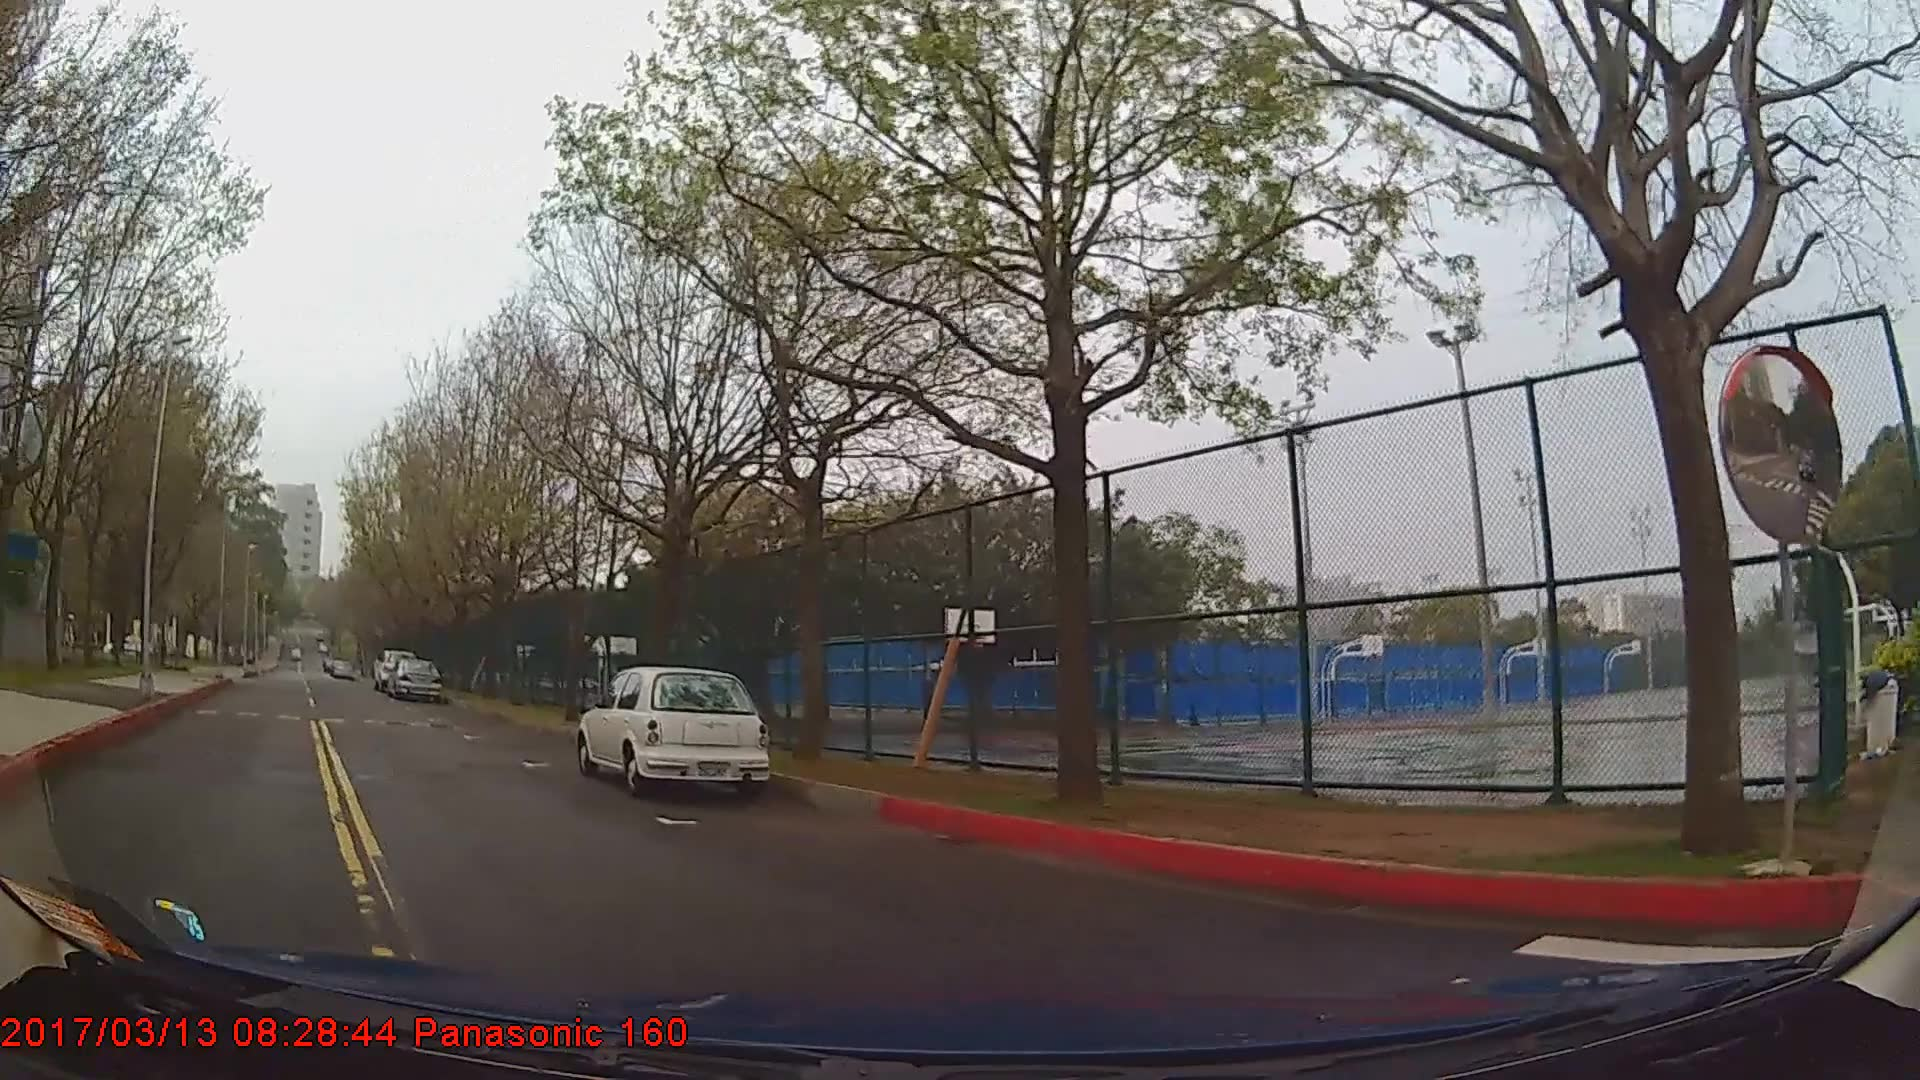vehicle: (578, 666, 771, 795), (384, 657, 442, 700)
